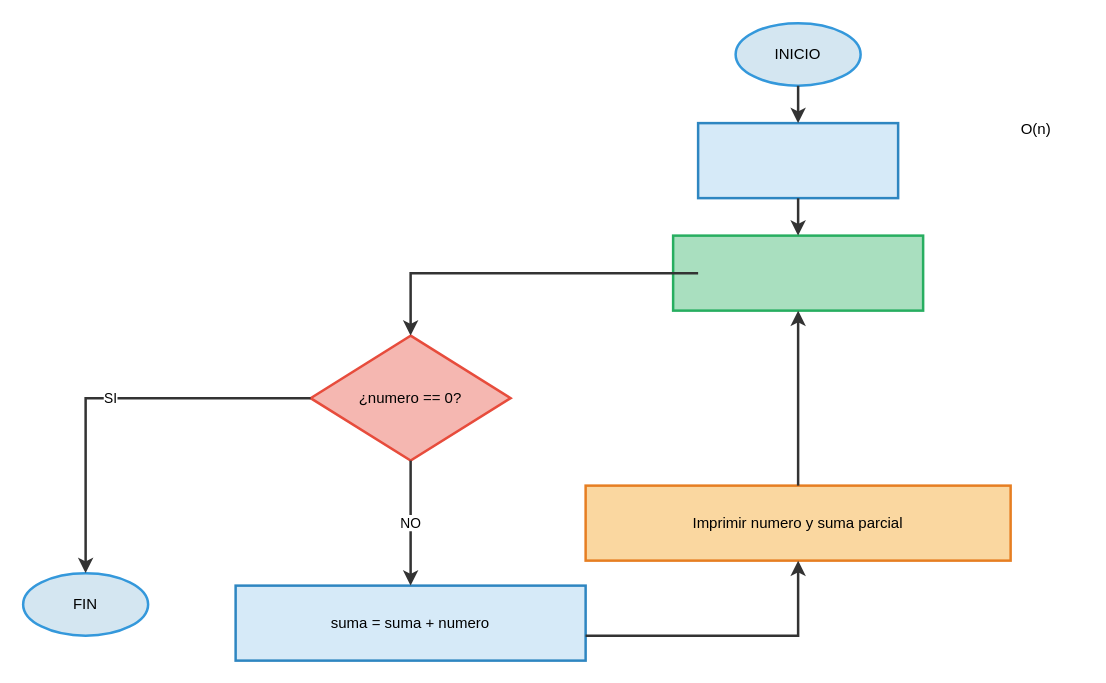
This 1106x683 diagram has some shape labels left out. The box of each missing label's shape, as (x1, y1, x2, y2) in pixels:
Leer numero: (671, 234, 924, 311)
suma = 0: (696, 121, 899, 199)
